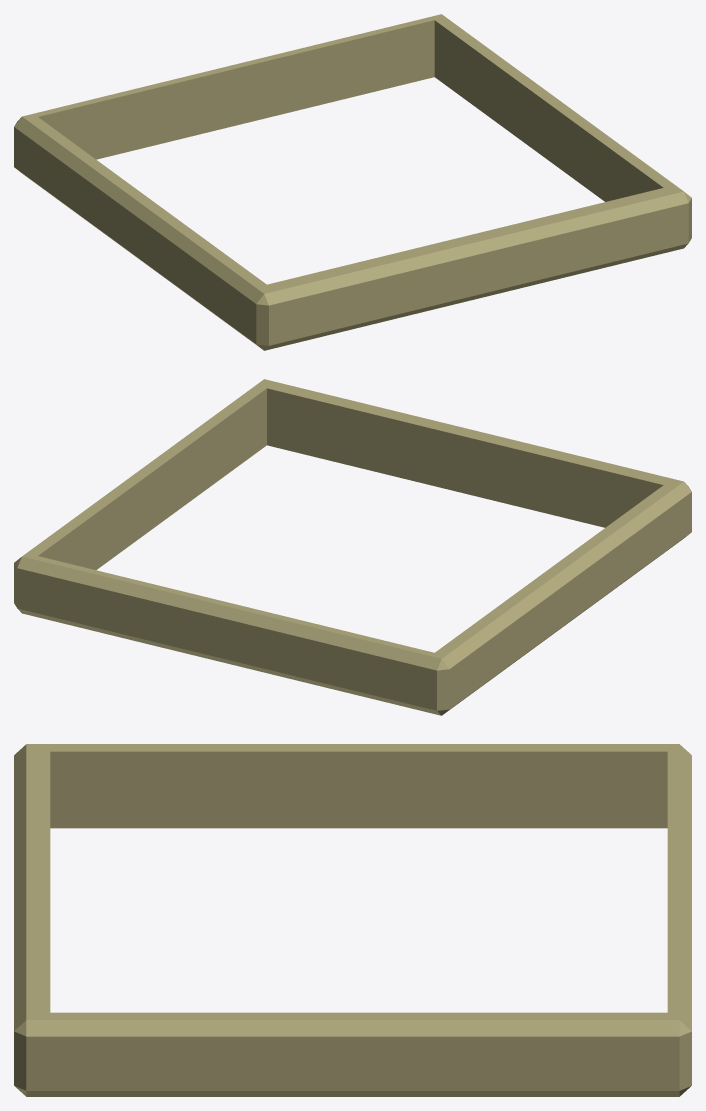
File: 1x1Curtain.fbx
The picture shows the model from 3 angles, top to bottom: view 1: azimuth 30°, elevation 25°; view 2: azimuth 150°, elevation 25°; view 3: azimuth 270°, elevation 25°; orthographic projection. The views are drawn at different scales.
Visible parts, largest first — view 1: Curtain; view 2: Curtain; view 3: Curtain.
Boxes of the visible parts, box(x1,y1,x2,y2) form: Curtain: box(14, 14, 691, 350); Curtain: box(14, 379, 691, 715); Curtain: box(14, 744, 691, 1096).
Bounding box in the file's own units: 439 × 54.91 × 439.
